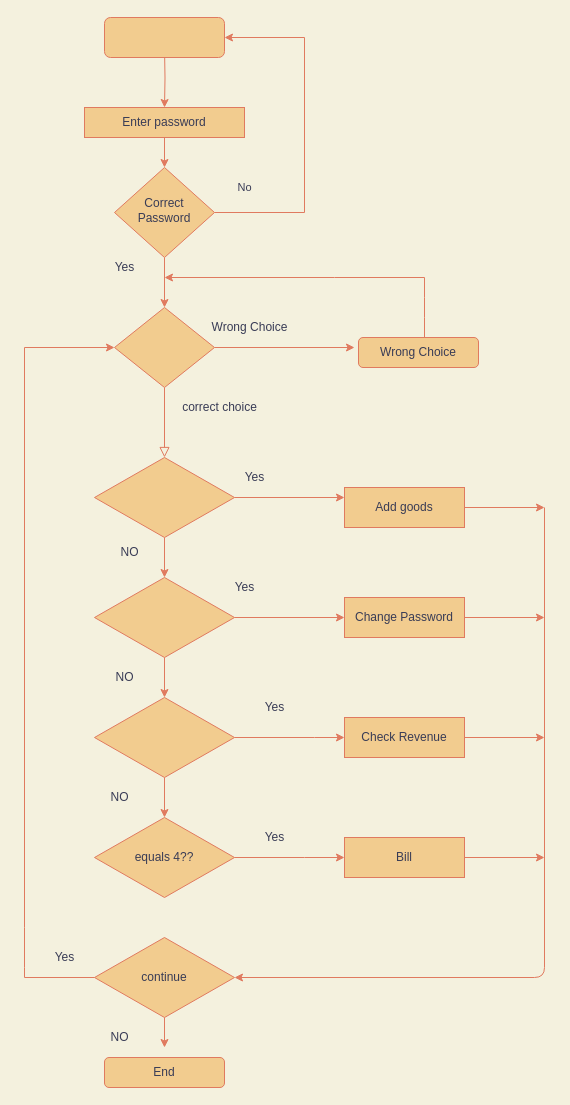
Some shapes in this 570 by 1105 pixel diagram are drawn without their labels. The shapes that lost their labels are listed below. From the top down, each one's centre as x and y in pixels, then its label:
(x=164, y=37): Start
(x=164, y=347): Enter choice
(x=164, y=497): equals to 1??
(x=164, y=617): equals 2??
(x=164, y=737): equals 3??
